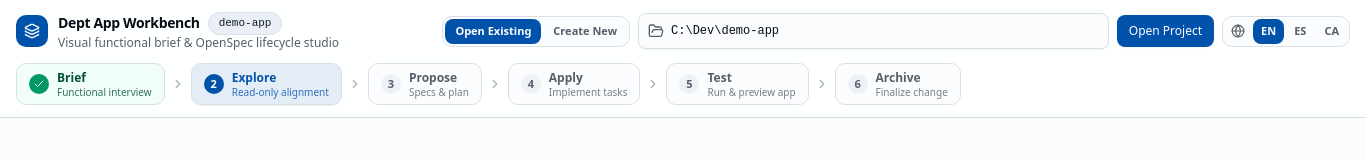
Scenario: WorkspaceHeader › switches UI labels when selecting ES or CA in the header language switcher
Click the button "CA".
click(1332, 31)  # box left=1316, top=19, right=1347, bottom=44
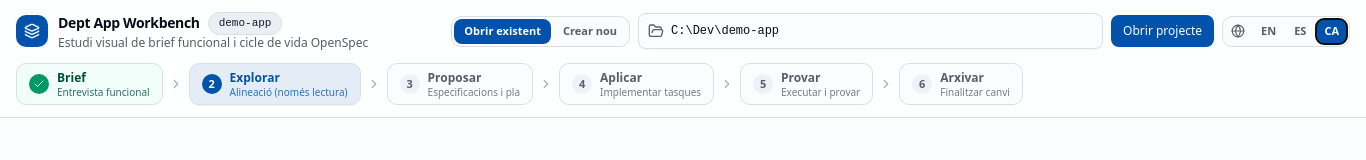
Now the button "Obrir projecte" is shown, box left=1111, top=15, right=1214, bottom=47
Now the button "2 Explorar Alineació (només lectura)" is shown, box left=189, top=62, right=361, bottom=105
Click the button "ES".
click(1300, 31)  # box left=1286, top=19, right=1314, bottom=44
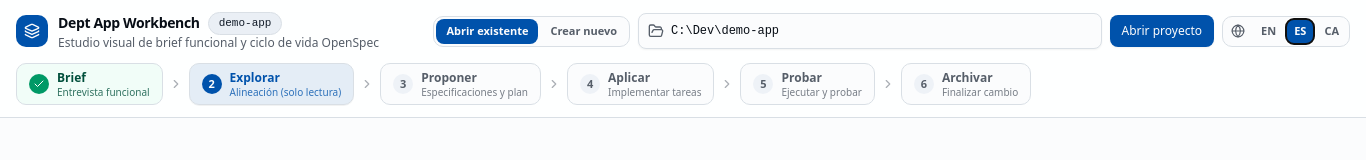
Now the button "Abrir proyecto" is shown, box left=1110, top=15, right=1214, bottom=47
